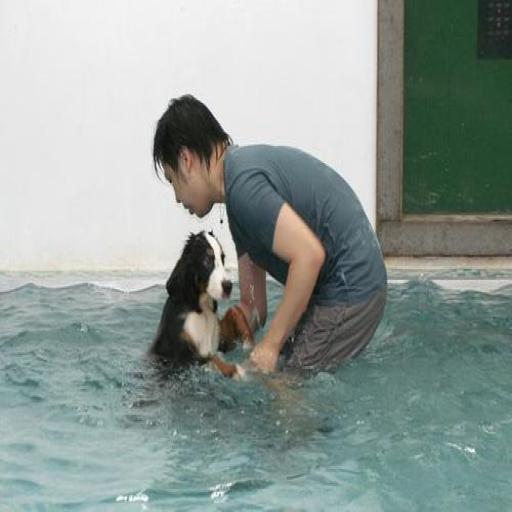dog_face: (163, 228, 233, 308)
